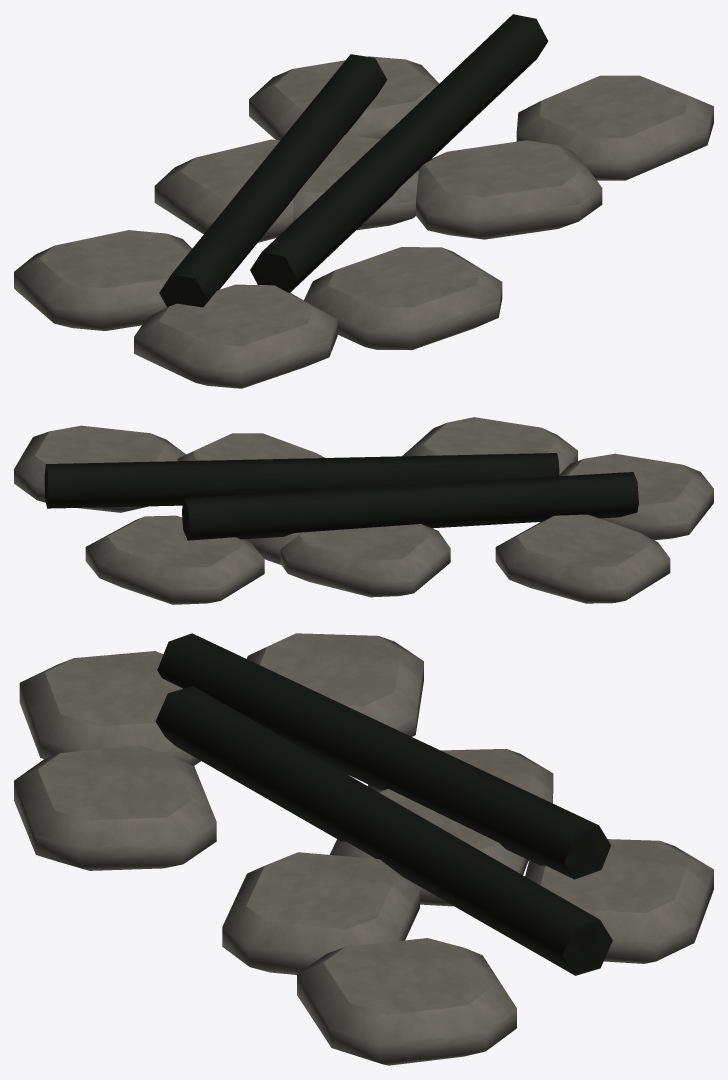
Rendered from ring-ash-bed-3.fbx.
The picture shows the model from 3 angles, top to bottom: view 1: azimuth 30°, elevation 25°; view 2: azimuth 150°, elevation 25°; view 3: azimuth 270°, elevation 25°; orthographic projection. The views are drawn at different scales.
Parts seen in each view (by area): view 1: ring-ash-bed-3__Geometry; view 2: ring-ash-bed-3__Geometry; view 3: ring-ash-bed-3__Geometry.
Boxes of the visible parts, <box> form: ring-ash-bed-3__Geometry: <box>14,14,713,388</box>; ring-ash-bed-3__Geometry: <box>14,417,713,604</box>; ring-ash-bed-3__Geometry: <box>14,633,713,1065</box>.
Bounding box in the file's own units: 0.7786 × 0.0871 × 0.5675.
